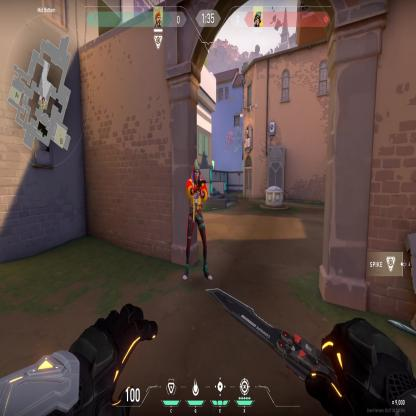enemy: (181, 156, 213, 283)
